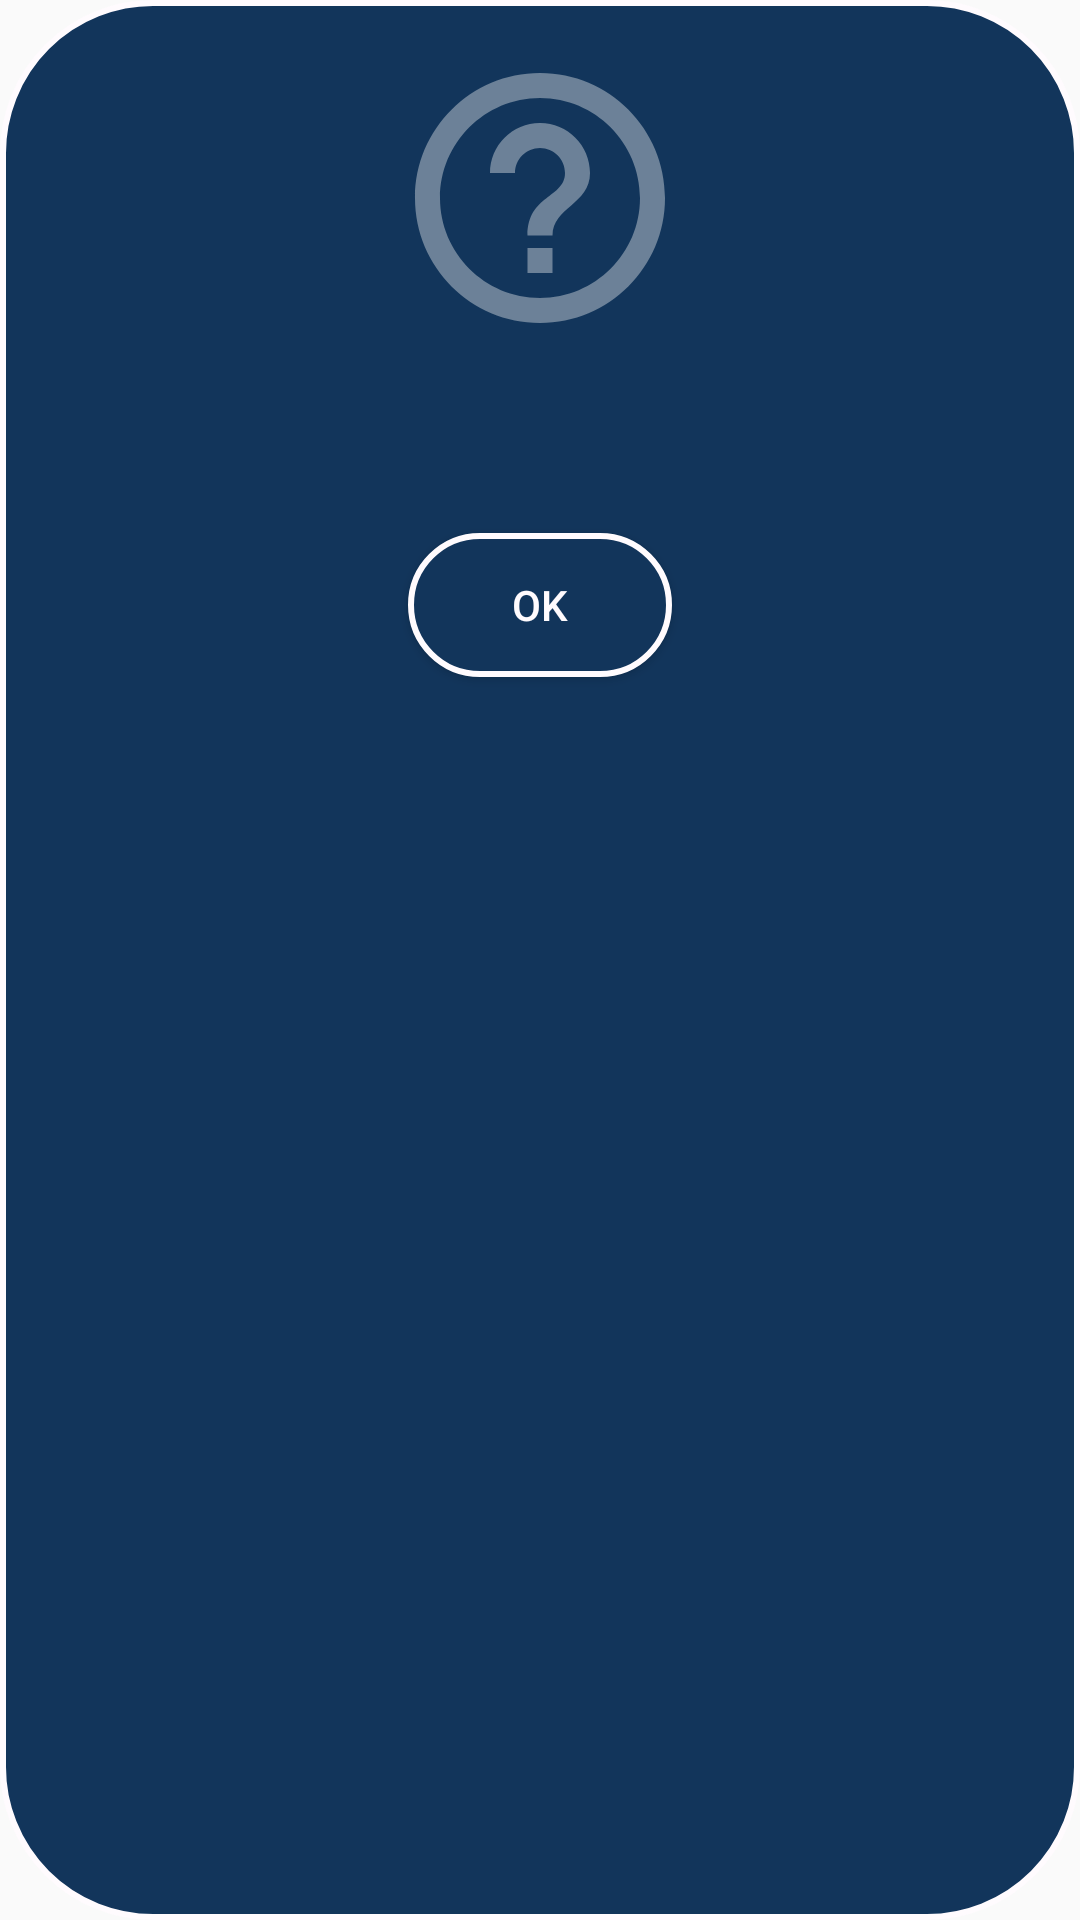

Icon bounding boxes for this 1080x1920 phone screenshot, format (x1, y1, x2, y2):
Help: (415, 73, 665, 323)
